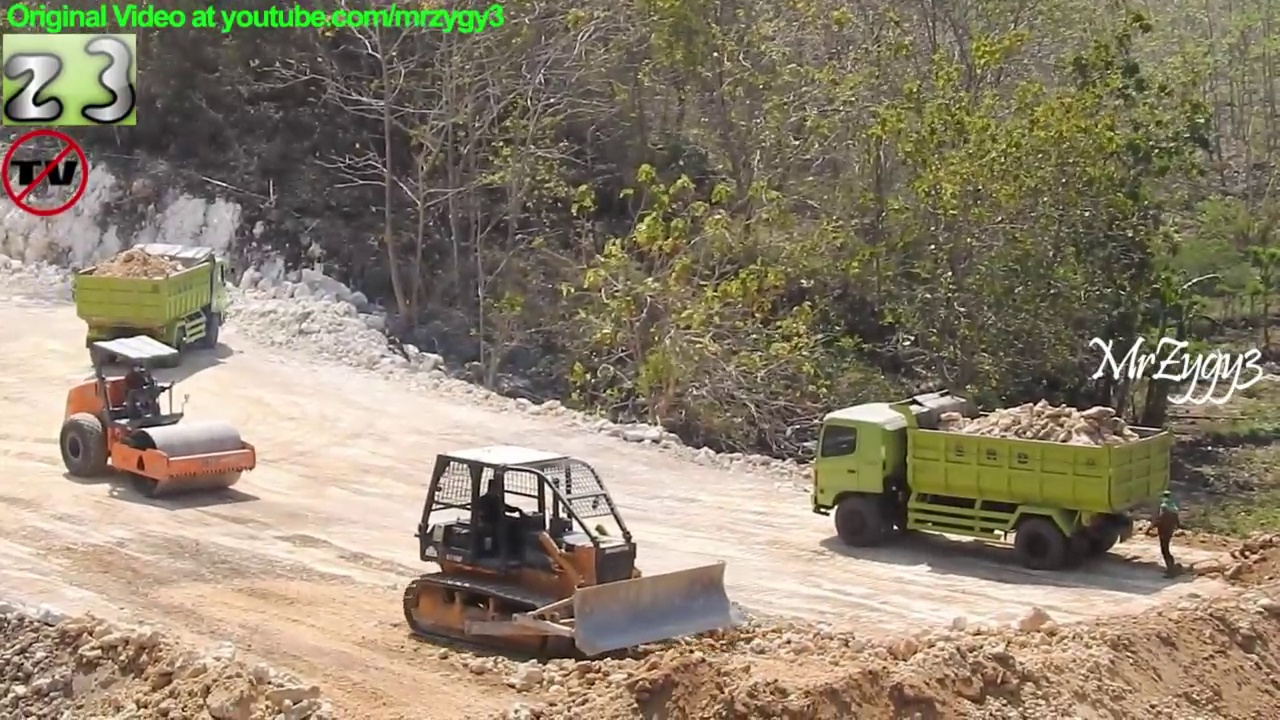bulldozer: (398, 443, 754, 668)
compactor: (57, 331, 261, 506)
truck: (792, 386, 1179, 574), (68, 238, 240, 371)
